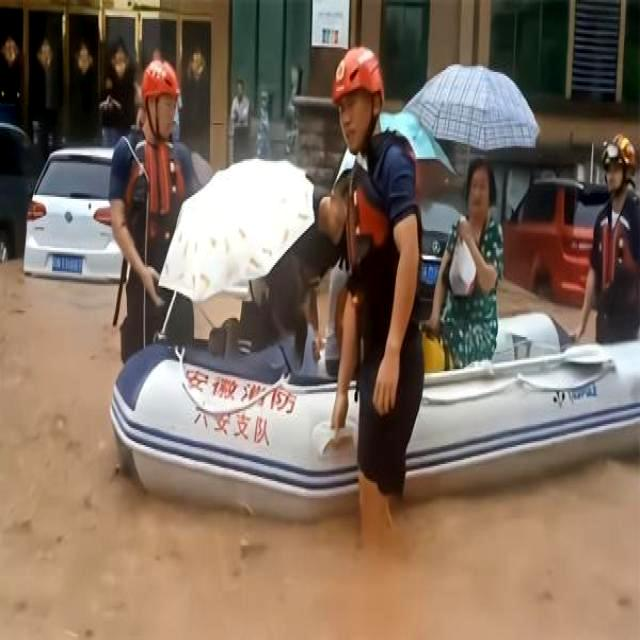civilian: (441, 154, 505, 372), (224, 77, 266, 165)
rescuer: (306, 36, 432, 568), (112, 54, 201, 366), (591, 128, 640, 348)
